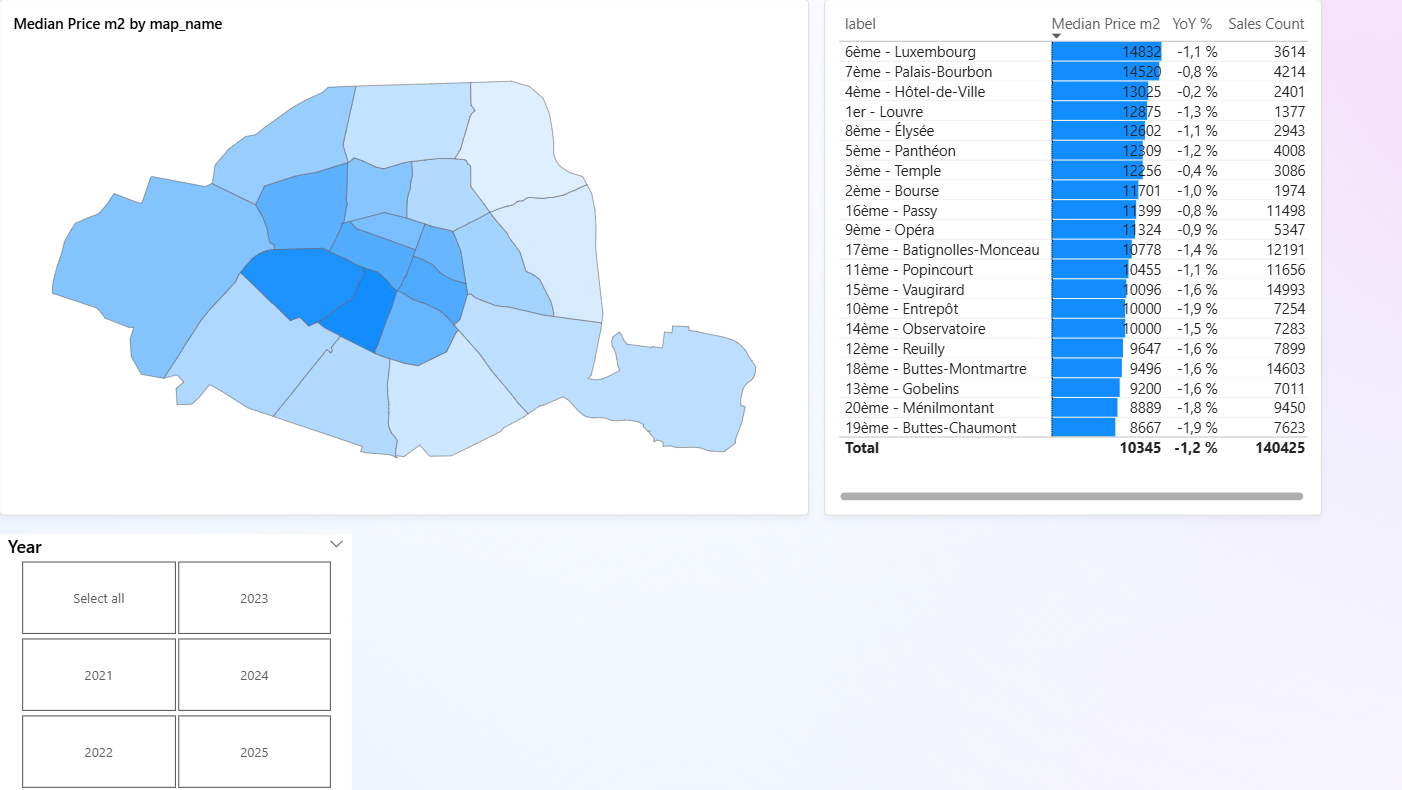

The page's visual inventory and layout, read from the dashboard file:
{"tool":"powerbi","page":{"name":"Map","canvas":[1280,720],"ordinal":1},"visuals":[{"type":"shapeMap","fields":{"Value":["_Measures (2).Median Price m2"],"Category":["Arrondissement.map_name"]},"box":[0,0,736.9,470.3],"z":0},{"type":"tableEx","fields":{"Values":["Arrondissement.label","_Measures (2).Median Price m2","_Measures (2).YoY %","_Measures (2).Sales Count"]},"box":[750.5,0,453,470.3],"z":1000},{"type":"slicer","fields":{"Values":["Date.Year"]},"box":[0,486.7,321.1,232.9],"z":5000}]}

Visuals, with their boxes in screenshot pixels (x1, y1, x2, y2), scaled from the page's 1280x720 canvas onto the 1402x790 screenshot:
shapeMap - _Measures (2).Median Price m2 x Arrondissement.map_name: (left=0, top=0, right=807, bottom=516)
tableEx - Arrondissement.label x _Measures (2).Median Price m2: (left=822, top=0, right=1318, bottom=516)
slicer - Date.Year: (left=0, top=534, right=352, bottom=789)
